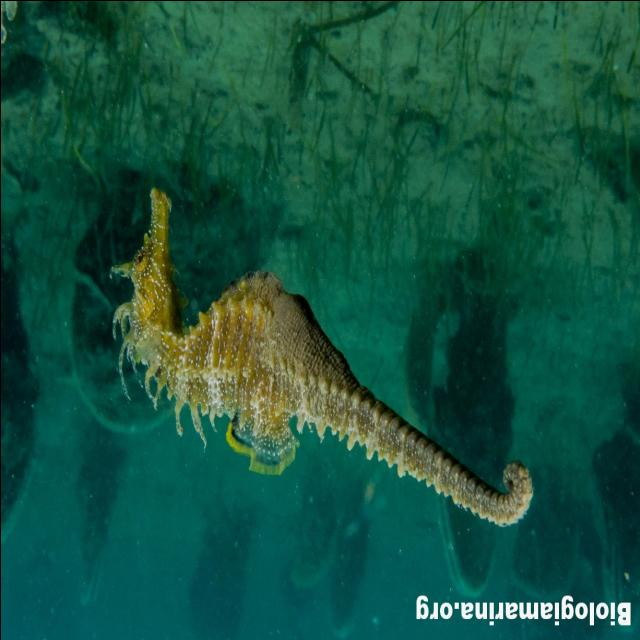Guttu: (116, 173, 176, 387)
